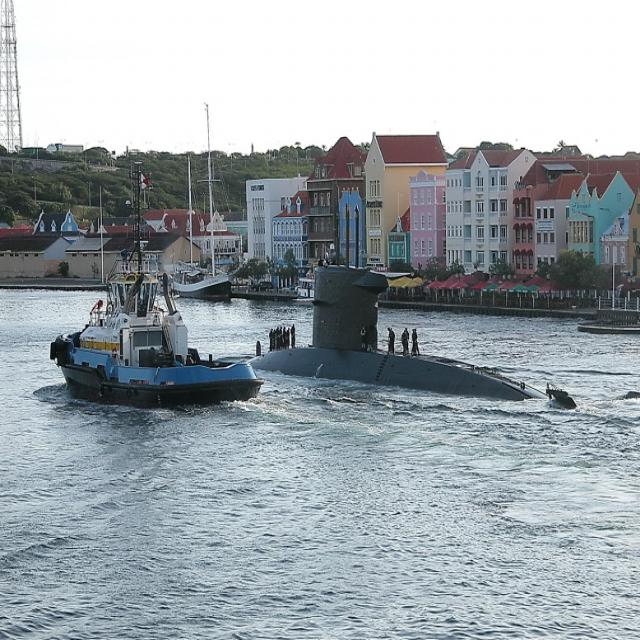submarine: (253, 202, 578, 404)
